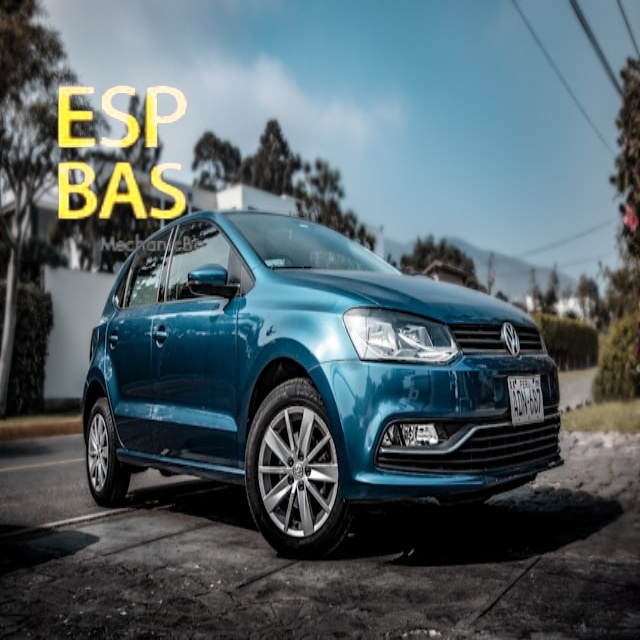symbol: (15, 46, 231, 262)
